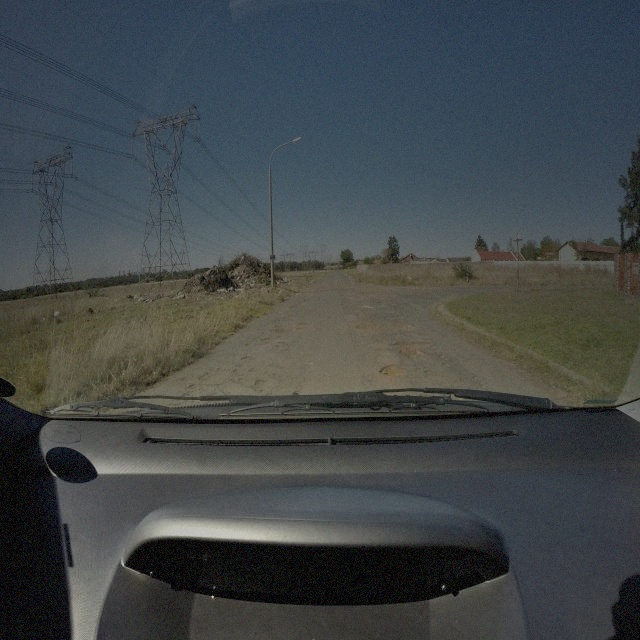pothole: (395, 338, 434, 360), (377, 362, 409, 381), (357, 322, 382, 331), (295, 320, 309, 333), (396, 321, 410, 331), (254, 378, 266, 389)
